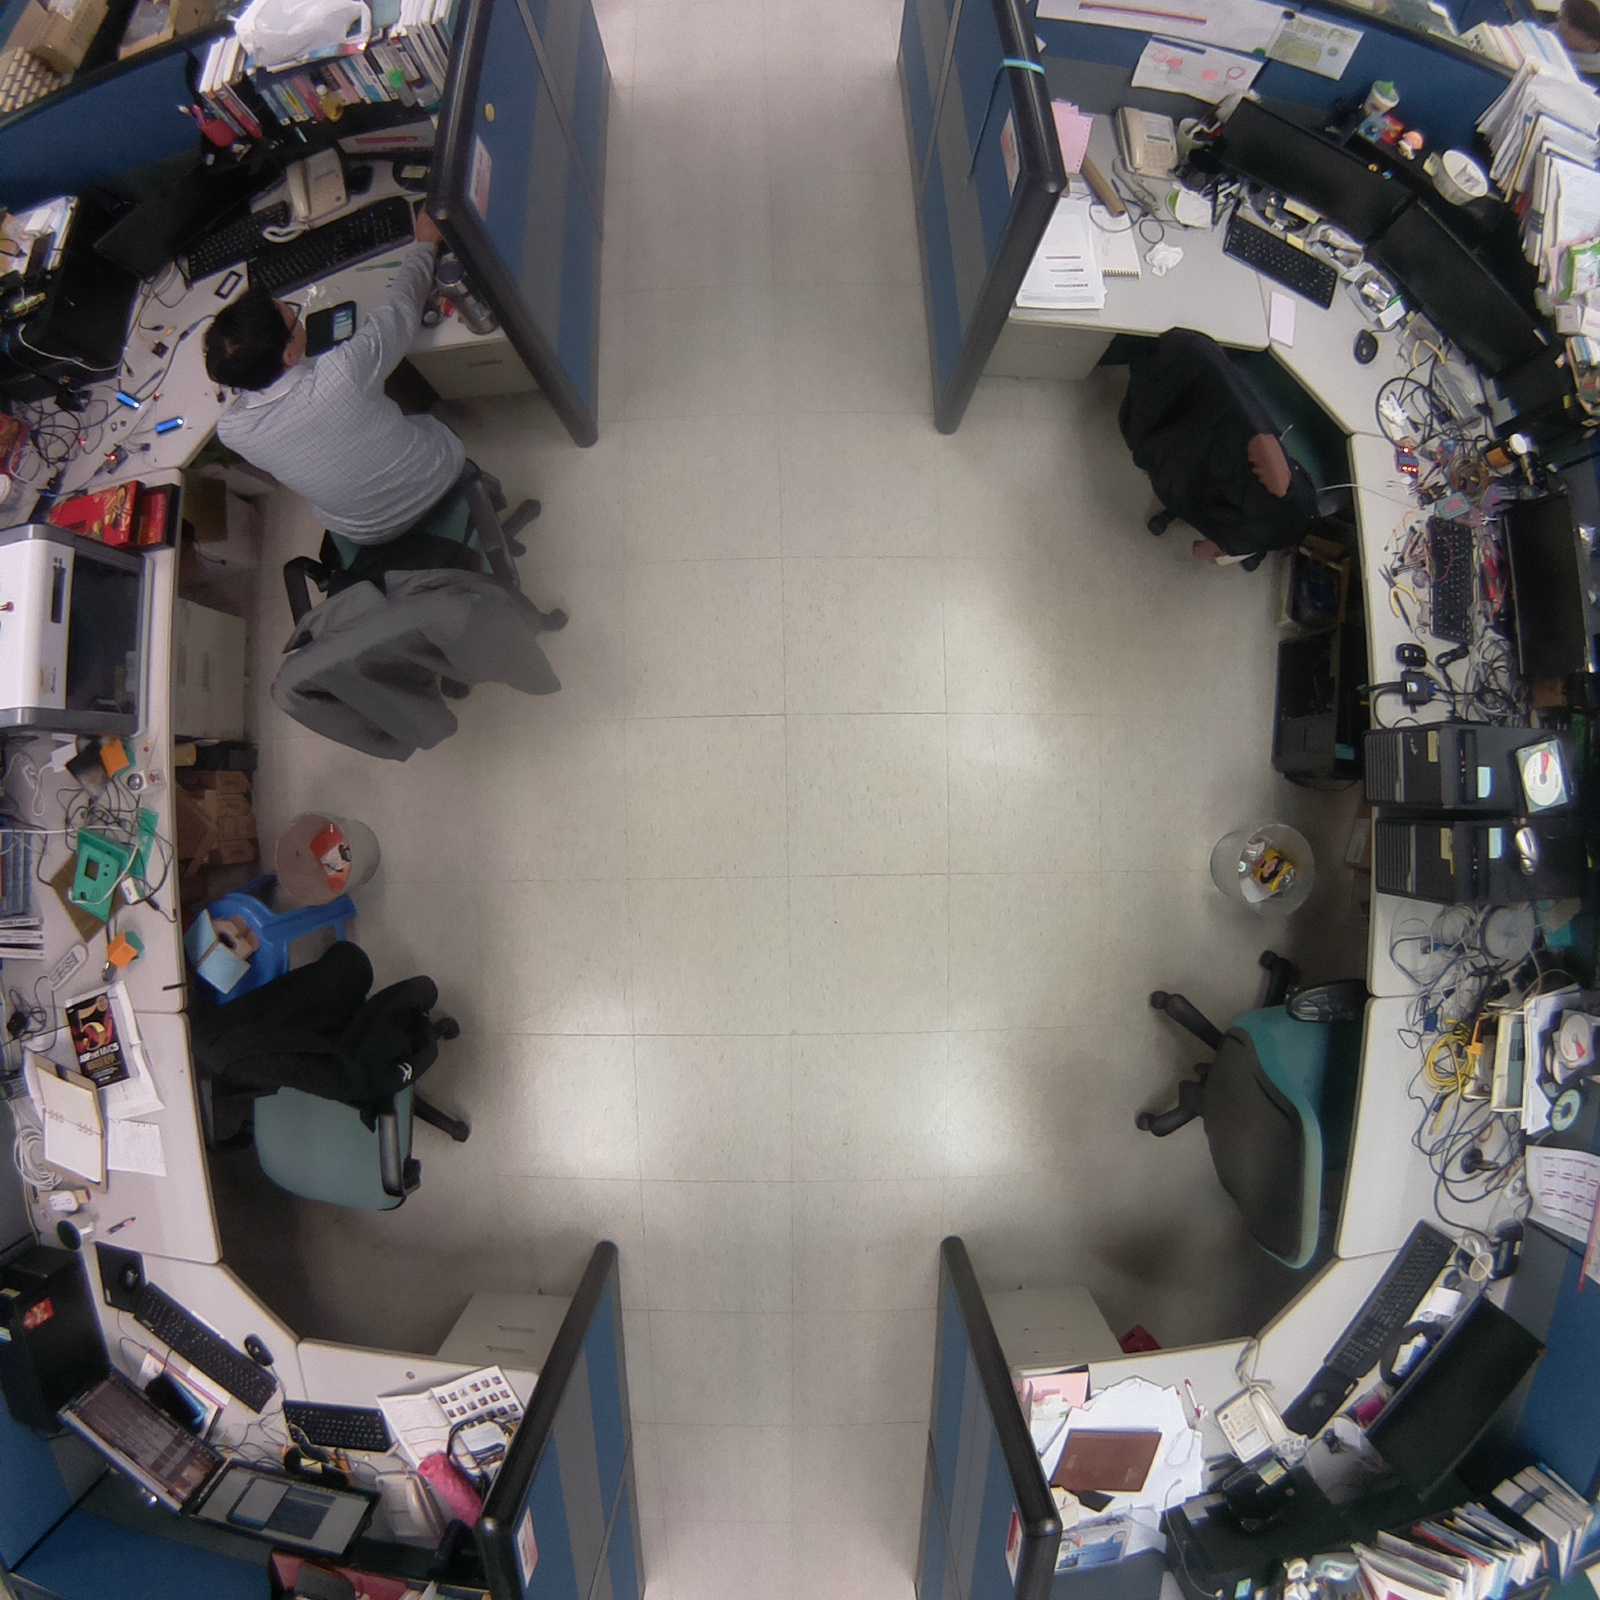chair: (1119, 917, 1365, 1296), (191, 927, 488, 1237), (1091, 299, 1360, 586)
head: (195, 291, 312, 400)
sitting: (193, 263, 604, 778)
